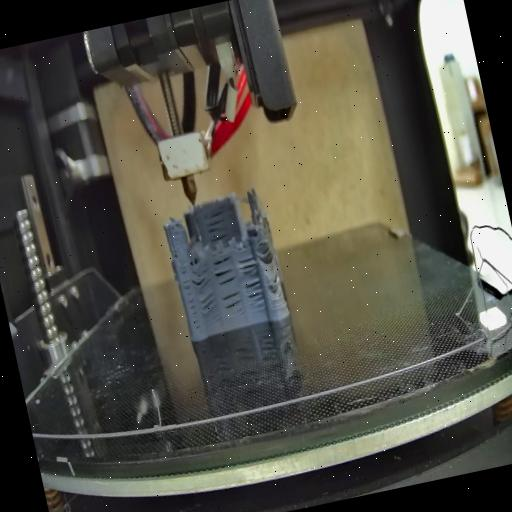cracks: (202, 206, 234, 242), (210, 254, 240, 288), (182, 276, 200, 324), (242, 280, 266, 309), (220, 290, 245, 314), (198, 291, 218, 316), (238, 254, 260, 276), (191, 268, 212, 290), (258, 244, 274, 264), (270, 272, 282, 288), (172, 248, 180, 258)
